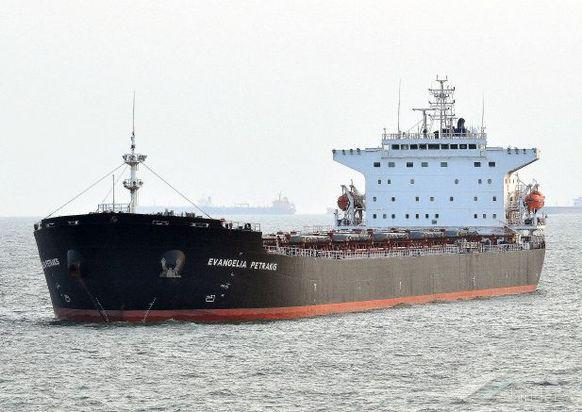OCR: (204, 252, 282, 278)
